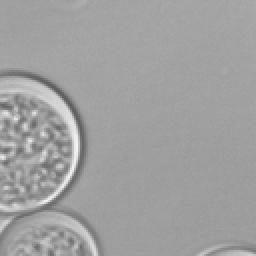picoshell: (0, 72, 84, 214), (0, 208, 98, 254), (198, 244, 254, 254)
